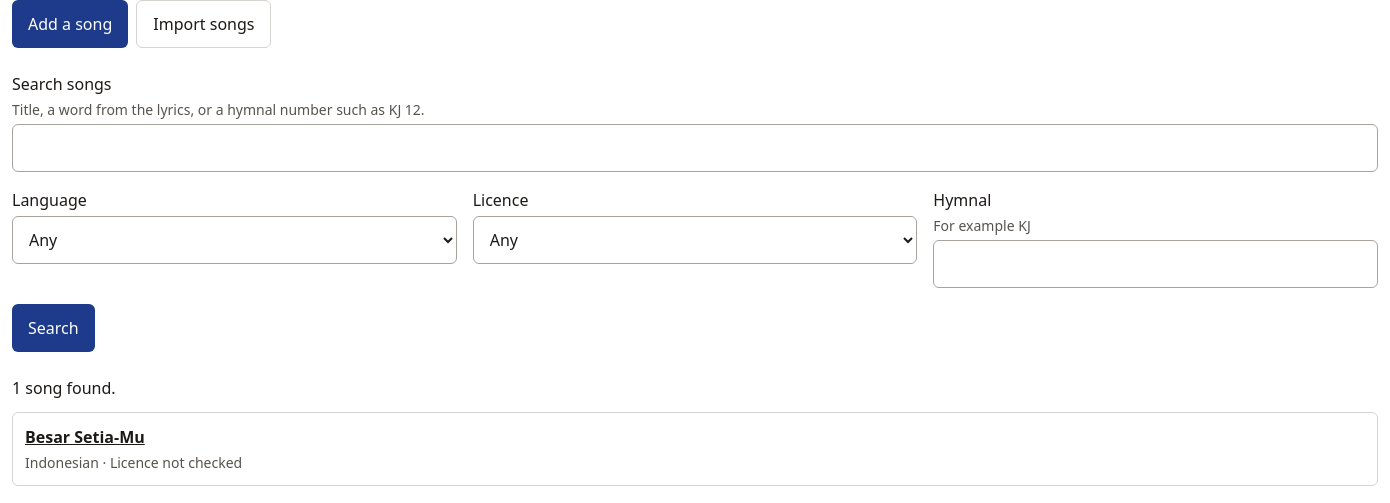
Test: LibraryPage › searches by the words typed and keeps them in the address
The width and height of the screenshot is (1390, 503).
Type "setia" into the search field labelled "Search songs" at (695, 148), box x1=12 y1=124 x2=1378 y2=172
Then press Enter
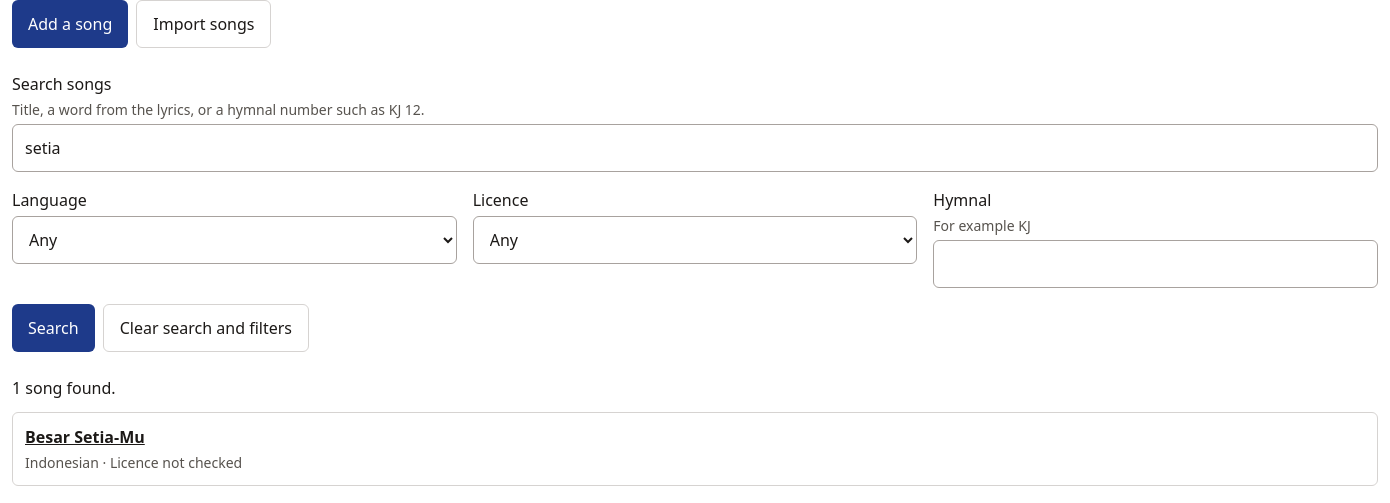
Result: the search field labelled "Search songs" holds "setia" at x1=12 y1=124 x2=1378 y2=172
